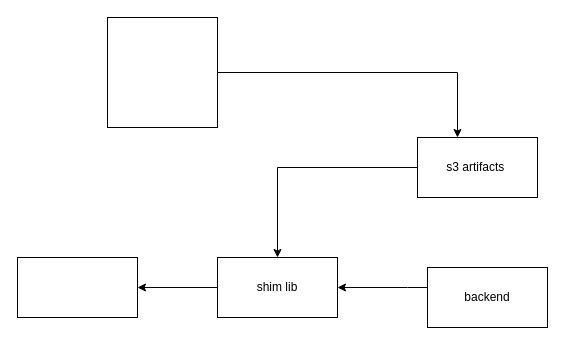
Image size: 565x345. Some labels were removed from this diagram. Here are the shapes that lost their labels. From the top down, the centre of each, then its label:
the point at 162,72: isolate component like (header , Footer)
the point at 77,287: MFE (microfrontend)
